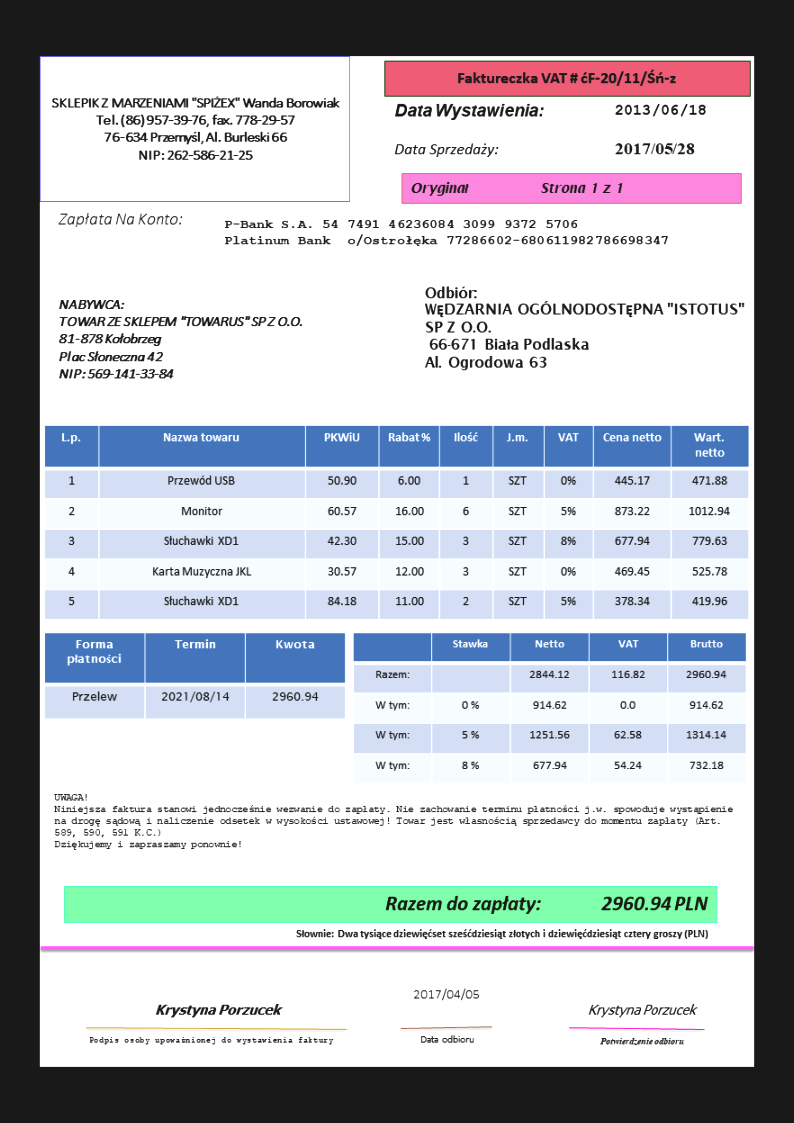Table: (43, 425, 751, 621), (352, 632, 749, 784), (42, 632, 346, 720)
TextBox: (51, 791, 735, 854), (423, 285, 747, 373), (55, 296, 307, 383), (49, 91, 341, 164), (222, 215, 672, 251), (383, 893, 710, 915), (294, 926, 710, 943), (456, 69, 679, 88), (87, 1033, 334, 1049), (411, 179, 627, 197), (393, 100, 546, 122), (55, 211, 186, 230), (154, 1002, 284, 1021), (586, 1000, 699, 1020), (392, 142, 500, 159), (613, 101, 708, 120), (410, 983, 482, 1004), (614, 141, 695, 158), (599, 1035, 687, 1048), (419, 1032, 477, 1046)
